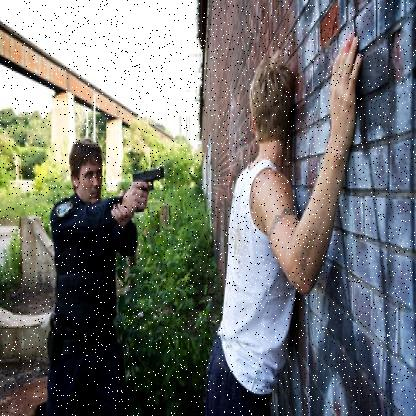pistol: (132, 168, 166, 212)
